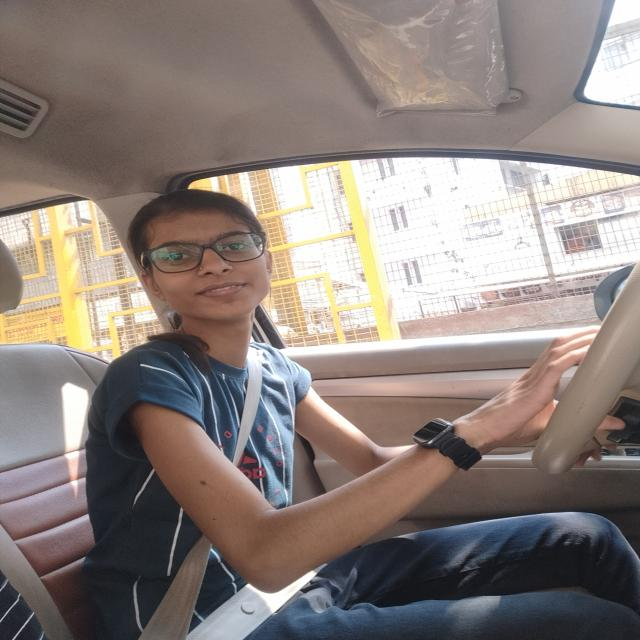LeftRight: (118, 188, 304, 359)
